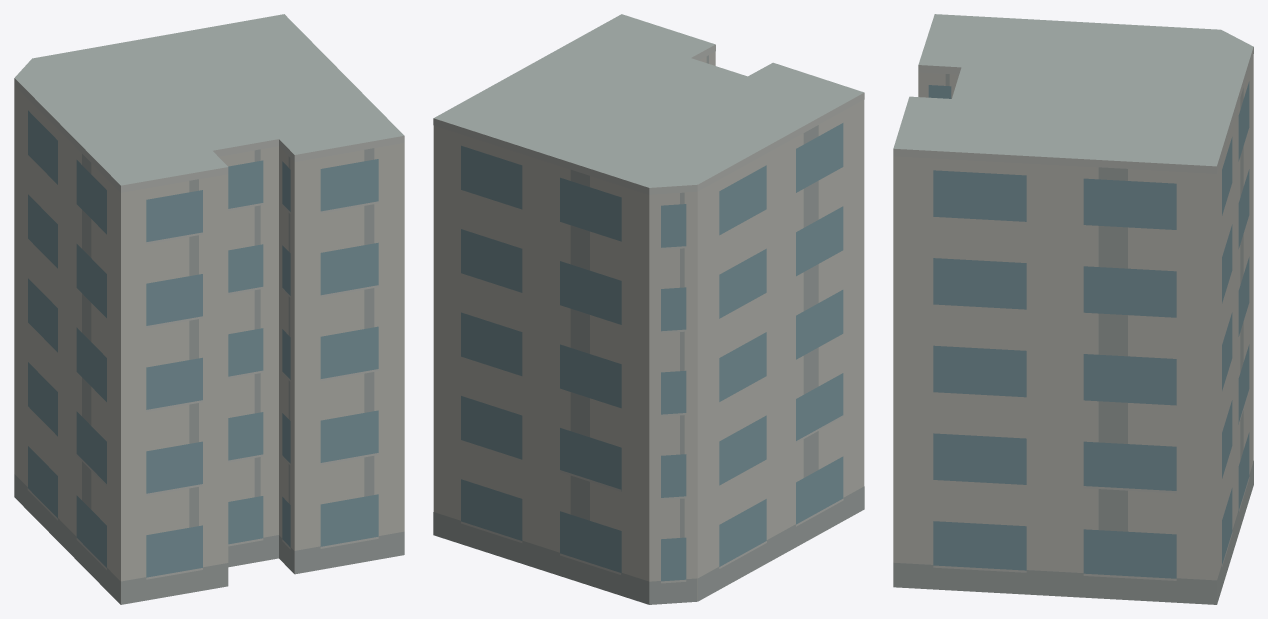
File: survey-upis-32589646.glb
The picture shows the model from 3 angles, left to right: view 1: azimuth 30°, elevation 25°; view 2: azimuth 150°, elevation 25°; view 3: azimuth 270°, elevation 25°; orthographic projection. The views are drawn at different scales.
Parts seen in each view (by area): view 1: survey-upis-32589646.tmp; view 2: survey-upis-32589646.tmp; view 3: survey-upis-32589646.tmp.
Part boxes in pixels (x1,y1,x2,y2): survey-upis-32589646.tmp: (14, 14, 404, 604); survey-upis-32589646.tmp: (433, 14, 864, 604); survey-upis-32589646.tmp: (893, 14, 1253, 604).
Bounding box in the file's own units: 10.81 × 14.5 × 10.81.
